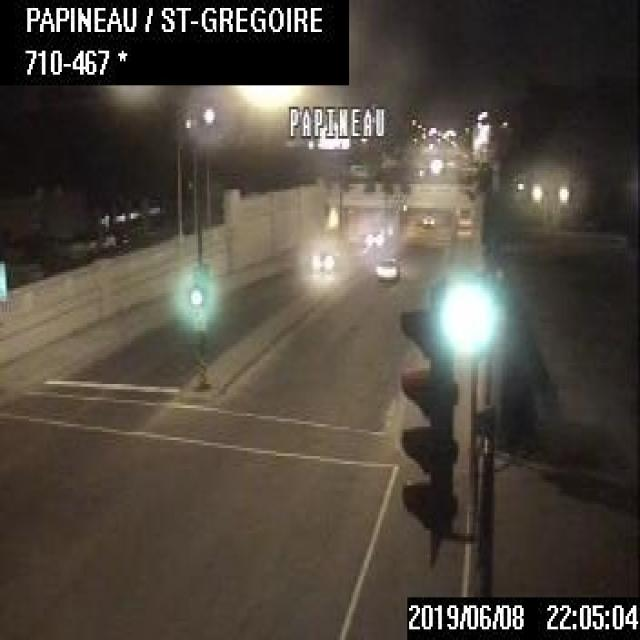vehicle: (311, 243, 338, 272), (374, 254, 396, 278), (364, 227, 384, 245), (420, 211, 435, 224)
